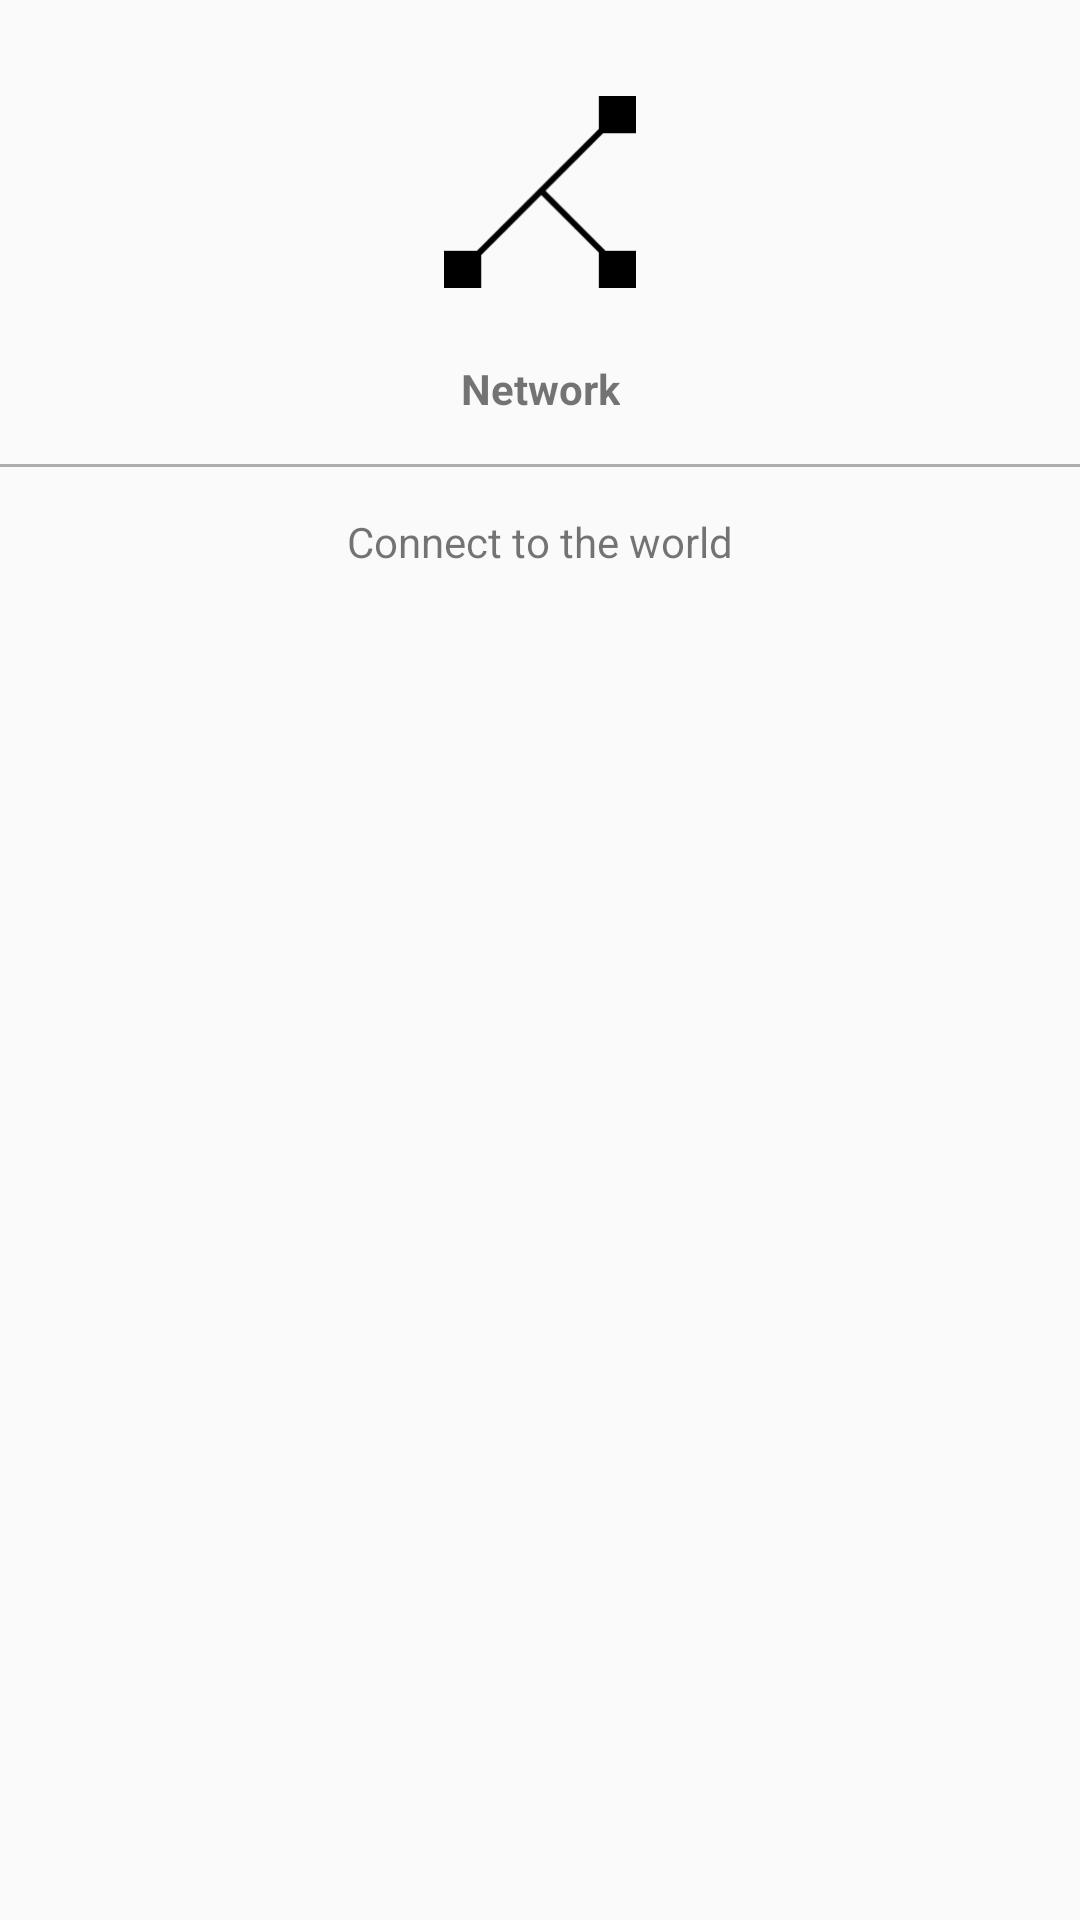

Where to tap for icons on this 1080px×1920px app screen, as [x,y]:
edges: [540,192]
